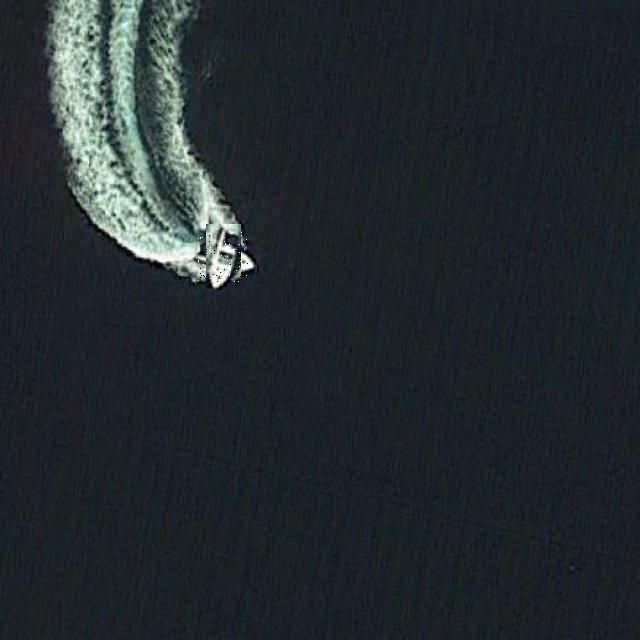boat: (198, 232, 248, 282)
